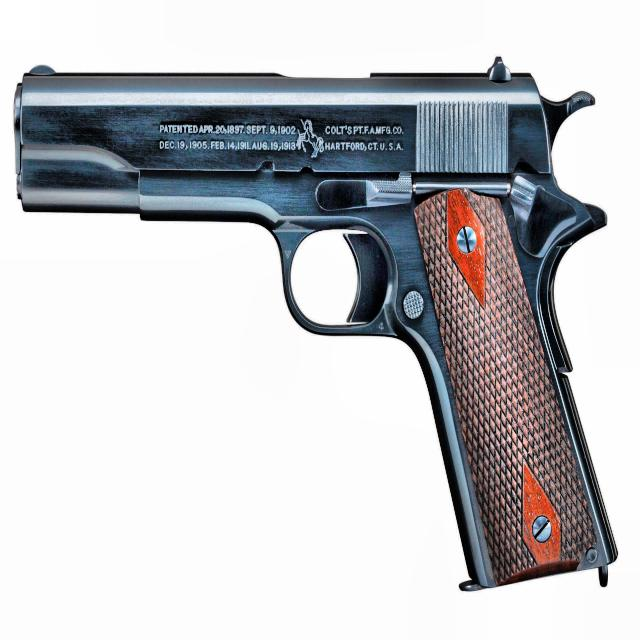Colt m1911: (12, 57, 618, 593)
